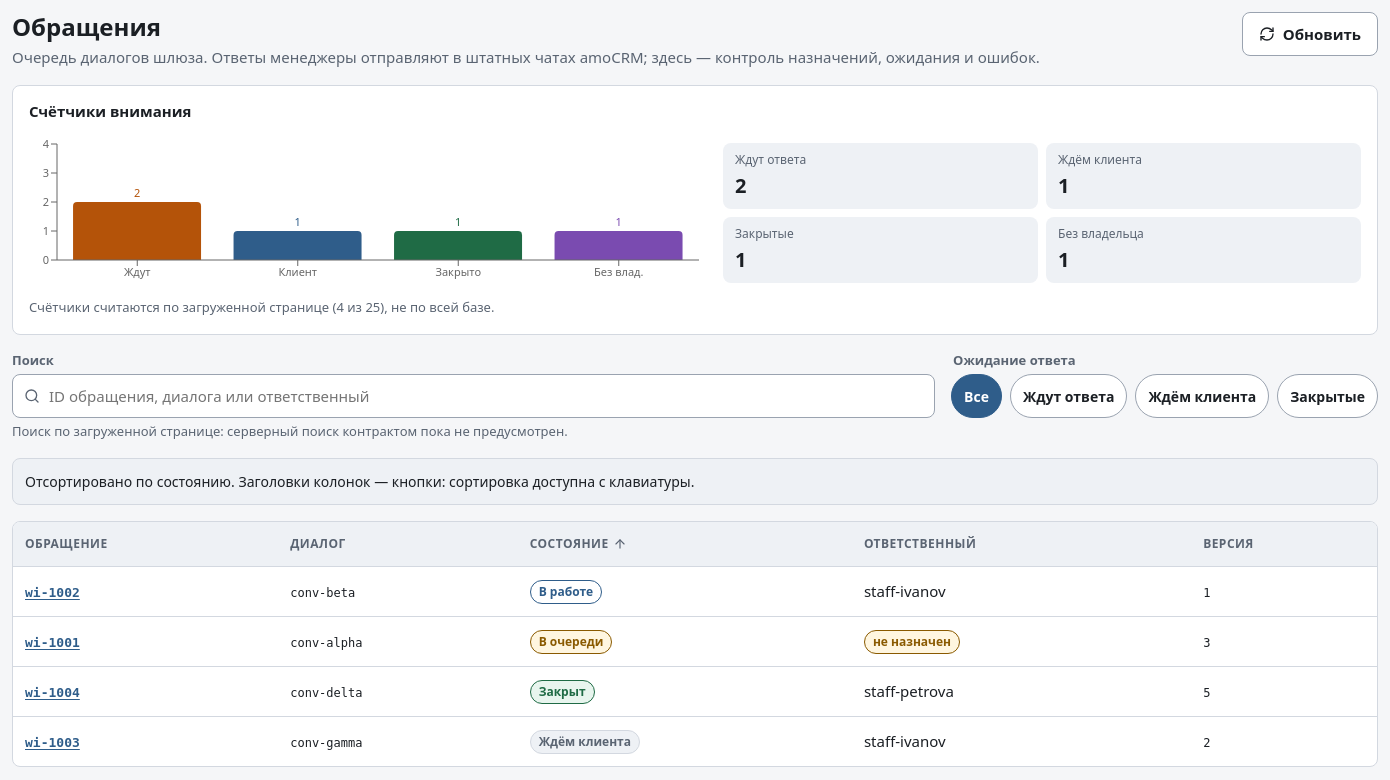
it: список обращений › фильтрует обращения, ожидающие ответа оператора
Expected: the link "wi-1001" is shown, left=25, top=635, right=80, bottom=650
Click the radio button labelled "Ждут ответа" at {"x": 1069, "y": 396}, box left=1010, top=374, right=1127, bottom=418
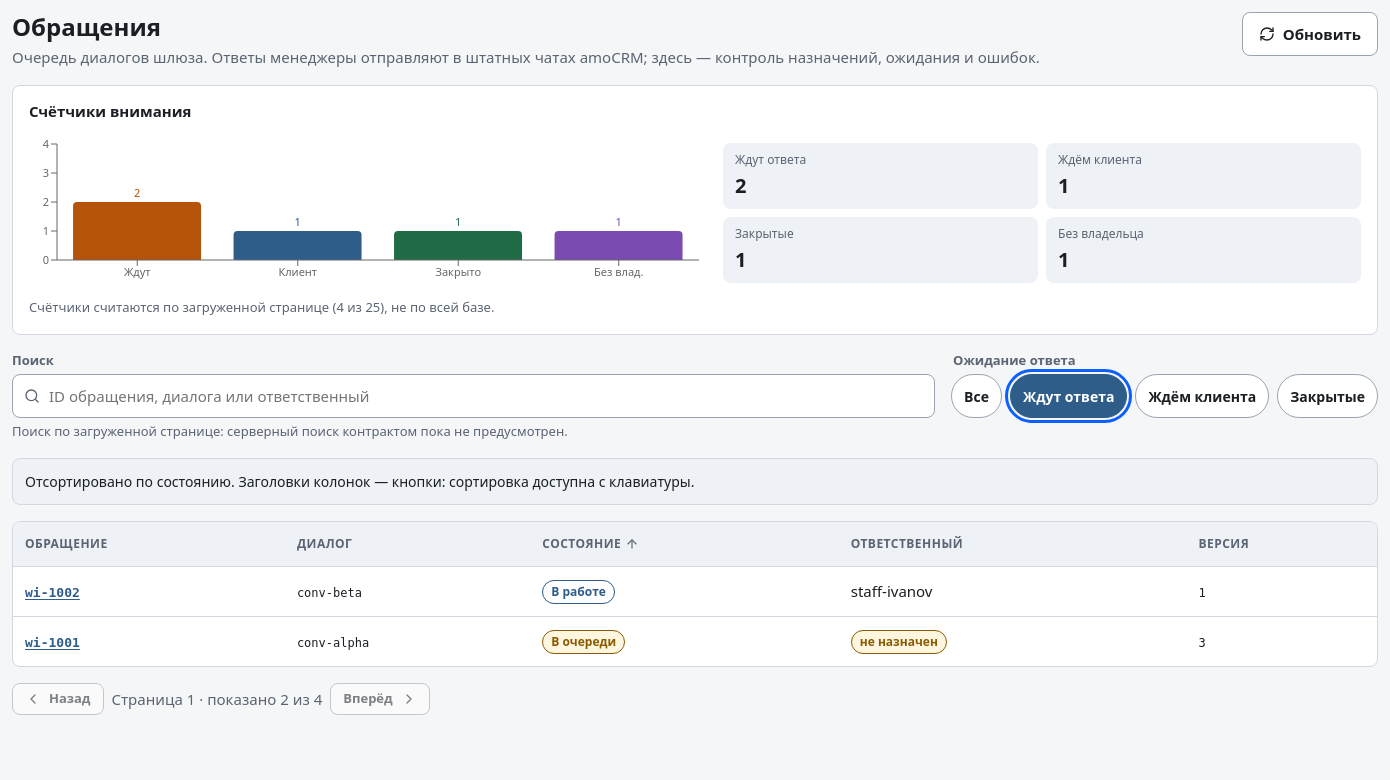
Expected: the link "wi-1001" is shown, left=25, top=635, right=80, bottom=650
Result: the link "wi-1003" is gone
Result: the link "wi-1004" is gone
